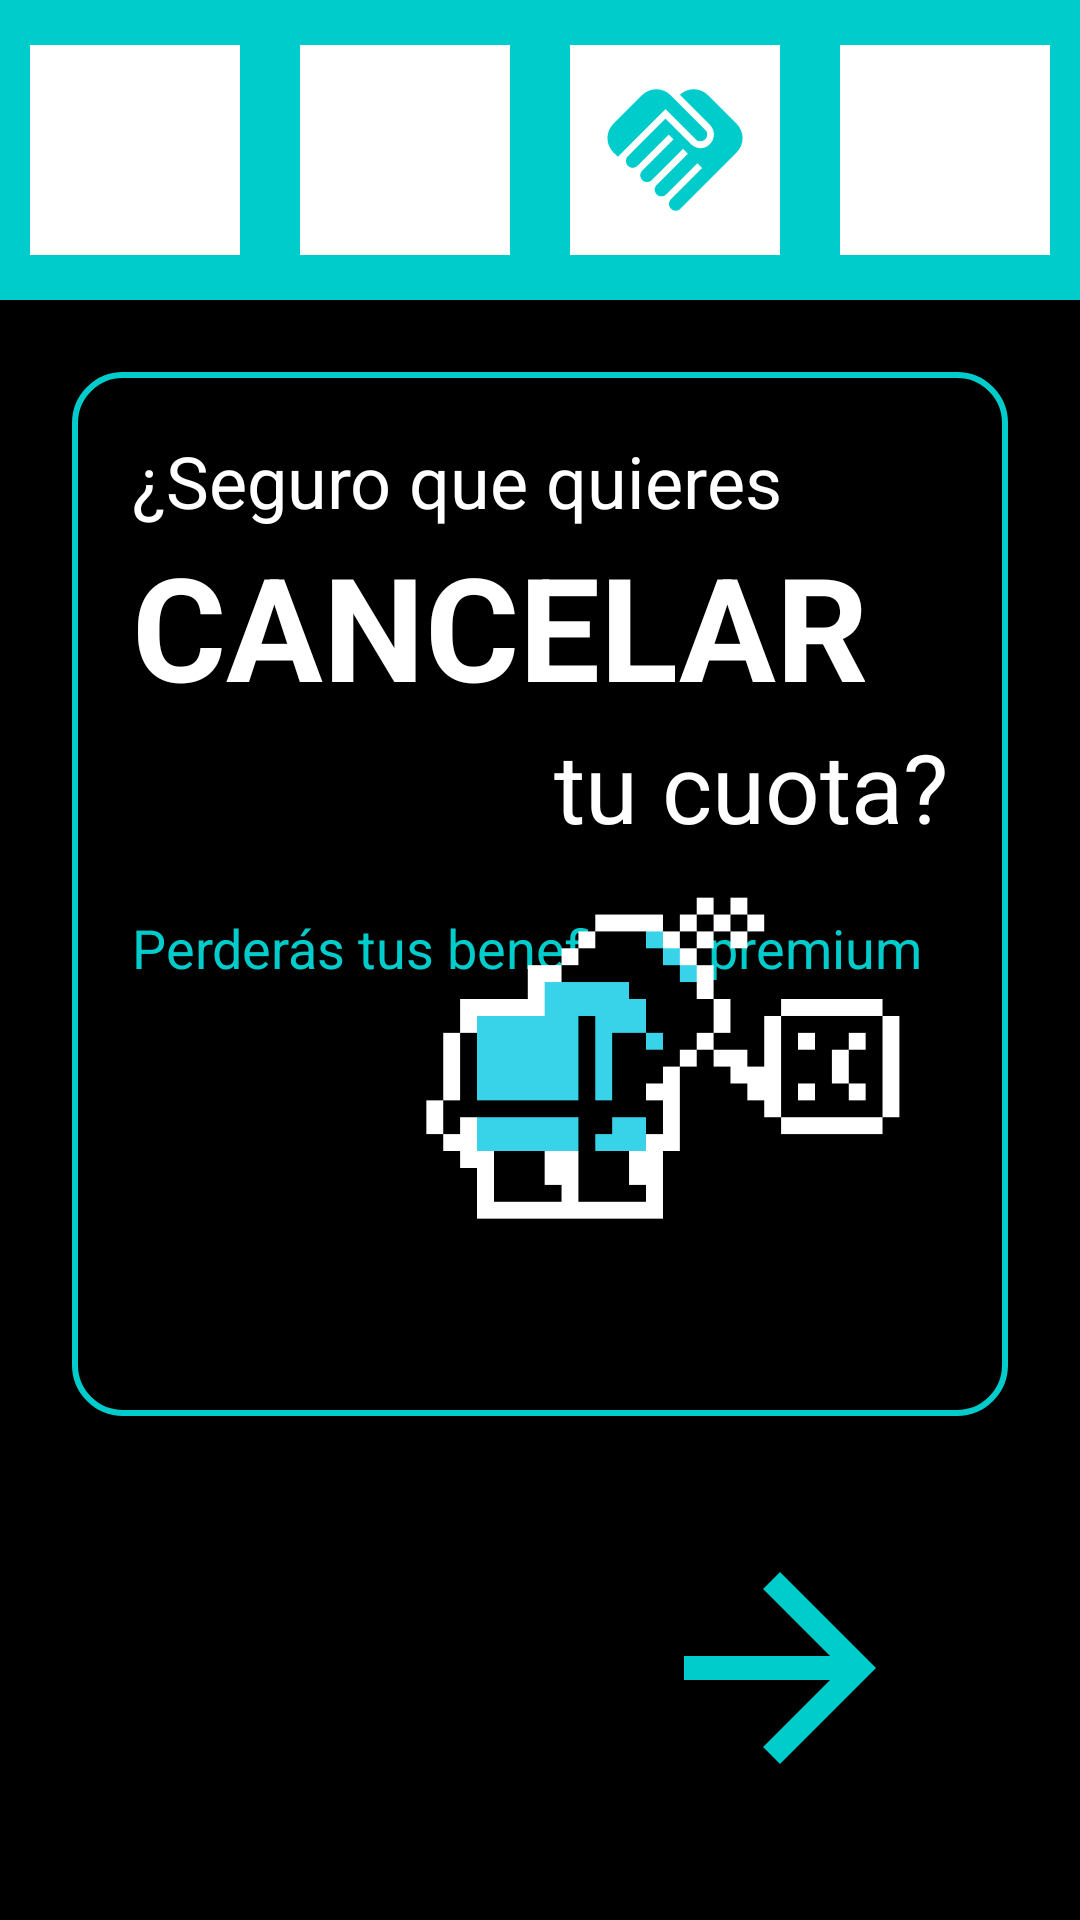

Icon click points for this 1080*1920 phone screenshot, format (x,y):
Confirmar: (780,1668)
Entorno compartido: (675,150)
